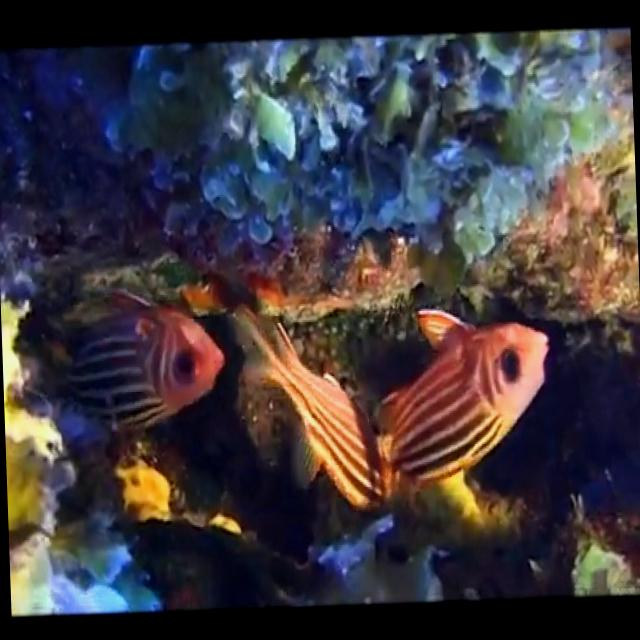Asker Baligi: (233, 292, 556, 518), (38, 293, 232, 457)
